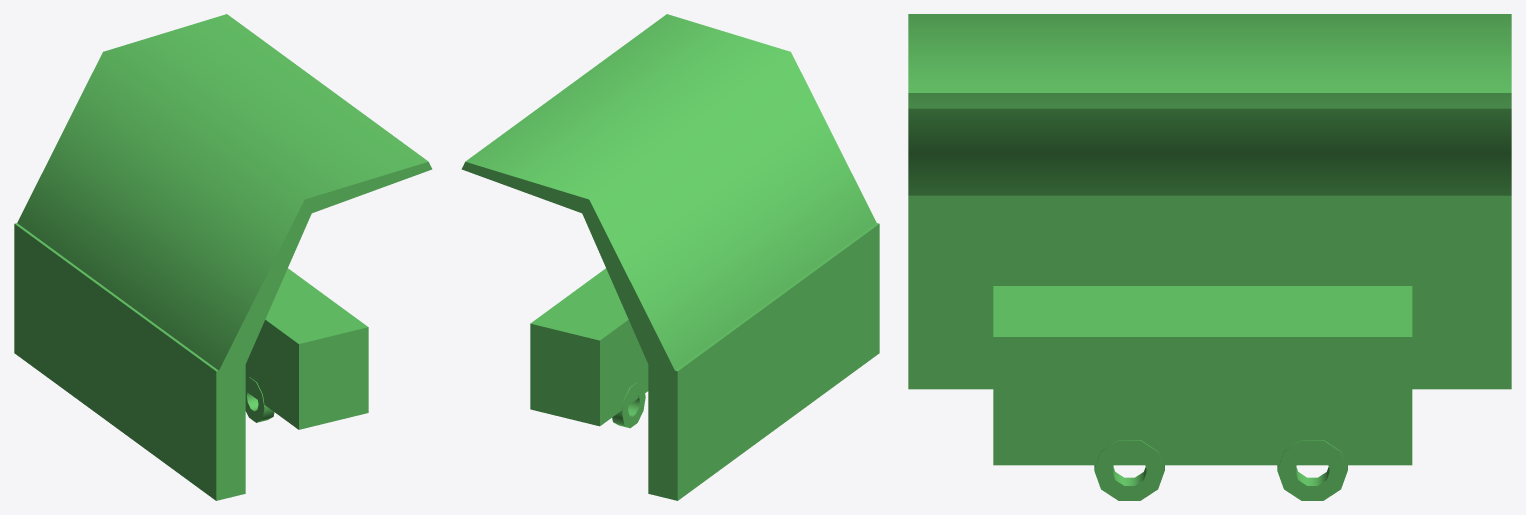
The model's file is Depot_Point.obj.
The picture shows the model from 3 angles, left to right: view 1: azimuth 30°, elevation 25°; view 2: azimuth 150°, elevation 25°; view 3: azimuth 270°, elevation 25°; orthographic projection. The views are drawn at different scales.
Parts seen in each view (by area): view 1: 000_Merged_Objects_1; view 2: 000_Merged_Objects_1; view 3: 000_Merged_Objects_1.
Boxes of the visible parts, x1,y1,x2,y2 form: 000_Merged_Objects_1: (14, 14, 432, 500); 000_Merged_Objects_1: (461, 14, 879, 500); 000_Merged_Objects_1: (908, 14, 1511, 500).
Bounding box in the file's own units: 146 × 185 × 235.
